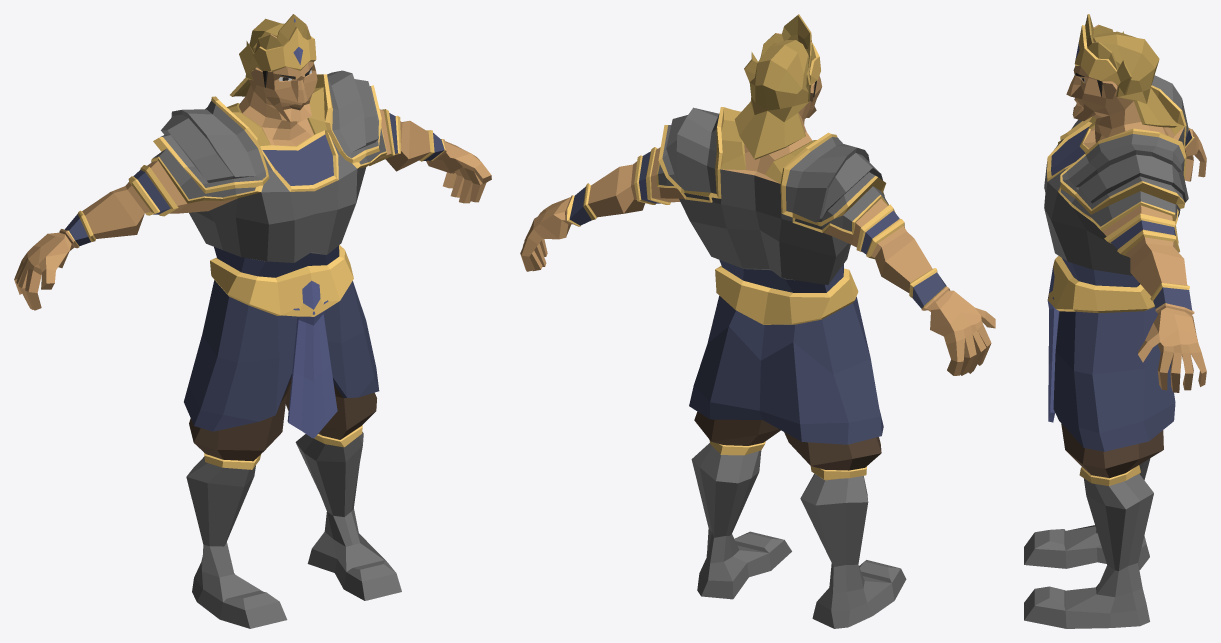
File: (1) Senopati-noweap-norig.fbx
3 views of the same model, side by side, from view 1: azimuth 30°, elevation 25°; view 2: azimuth 150°, elevation 25°; view 3: azimuth 270°, elevation 25° (orthographic).
Parts seen in each view (by area): view 1: Senopati full body; view 2: Senopati full body; view 3: Senopati full body.
Boxes of the visible parts, x1=… form: Senopati full body: x1=14, y1=14, x2=491, y2=628; Senopati full body: x1=520, y1=14, x2=995, y2=628; Senopati full body: x1=1024, y1=14, x2=1206, y2=628.
Size of the model in its own units: 199 by 239 by 68.91.
